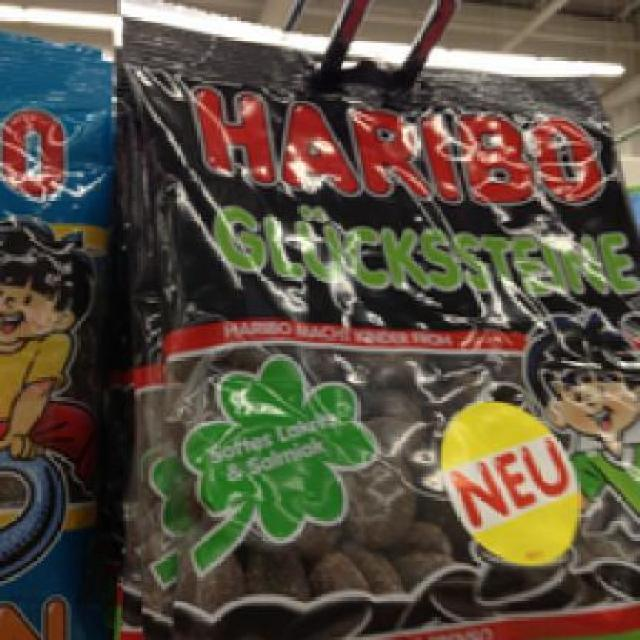Candy: (117, 6, 637, 634)
